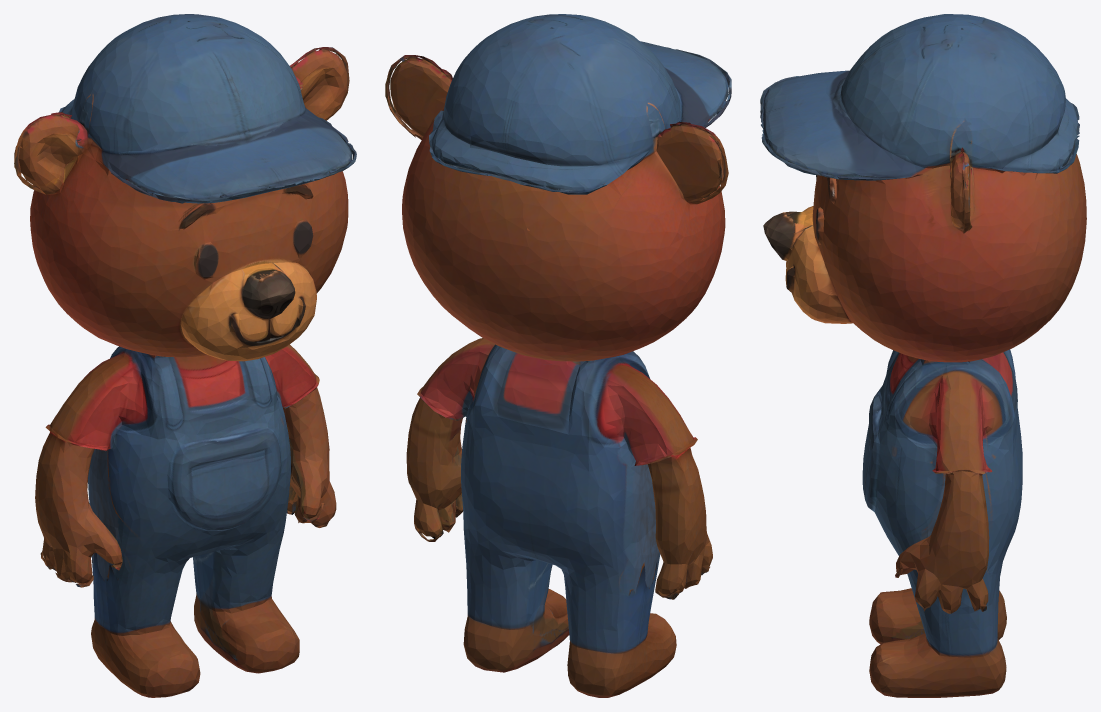
Rendered from Griff_0614210157_texture.fbx.
3 views of the same model, side by side, from view 1: azimuth 30°, elevation 25°; view 2: azimuth 150°, elevation 25°; view 3: azimuth 270°, elevation 25° (orthographic).
Visible parts, largest first — view 1: temp; view 2: temp; view 3: temp.
Part boxes in pixels (<box>): temp: <box>14,14,356,697</box>; temp: <box>385,14,731,697</box>; temp: <box>760,14,1086,697</box>.
Bounding box in the file's own units: 110 × 199 × 92.08.
1 material, 1 textured.
